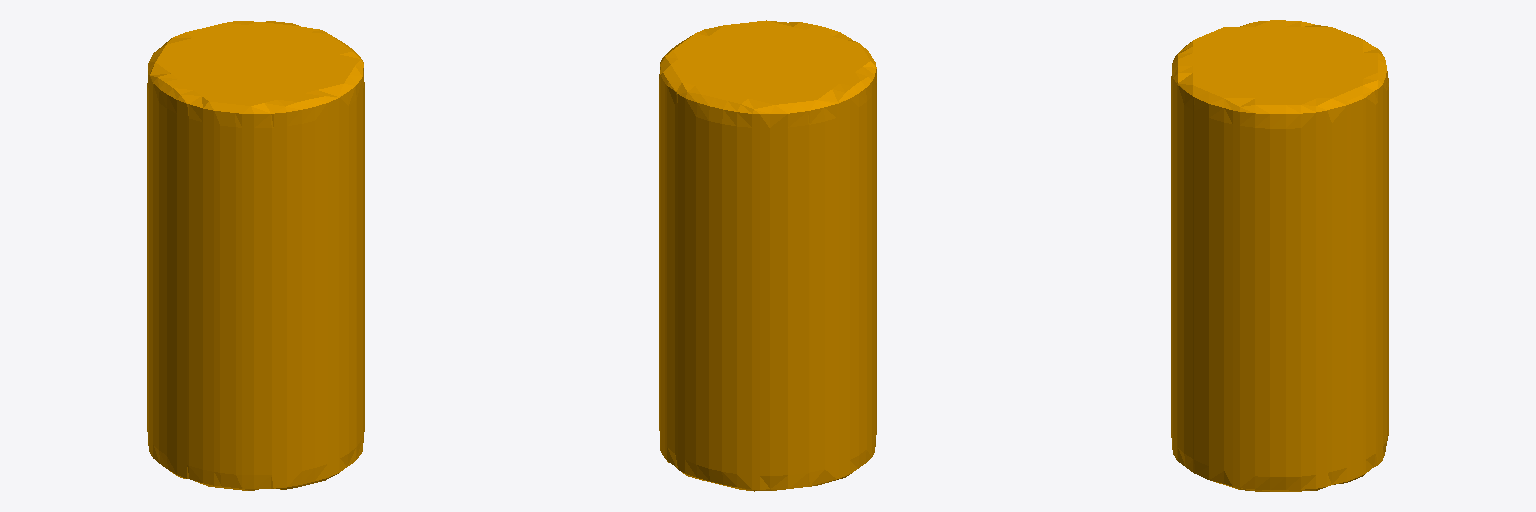
The robot description file, URDF, robot "cylinder_../../meshes/cylinders/cylinder_59.stl":
<?xml version="1.0" encoding="utf-8"?>  <robot name="cylinder_../../meshes/cylinders/cylinder_59.stl">   <link name="cylinder_../../meshes/cylinders/cylinder_59.stl">     <visual>       <geometry>         <mesh filename="../meshes/cylinders/cylinder_59.stl" scale="1 1 1"/>       </geometry>     </visual>     <collision>       <geometry>         <mesh filename="../meshes/cylinders/cylinder_59.stl" scale="1 1 1"/>       </geometry>     </collision>     <inertial>        <origin         xyz="0 0 0"         rpy="0 0 0" />       <mass value="0.5433927835040604"/>       <origin rpy="0 0 0" xyz="0 0 0"/>       <inertia ixx="0.0010357496555547206" ixy="-7.458808359332825e-08" ixz="-1.0404382662489103e-08" iyy="0.0010357505479511673" iyz="-1.4716960508042482e-09" izz="0.0003389874544446854"/>     </inertial>   </link>  </robot>

--- Facts derived from the render (not from the file) ---
3 views of the same robot in one strip: view 1: azimuth 30°, elevation 25°; view 2: azimuth 150°, elevation 25°; view 3: azimuth 270°, elevation 25° (orthographic).
Model cylinder_../../meshes/cylinders/cylinder_59.stl with 1 links and 0 joints (none), rooted at cylinder_../../meshes/cylinders/cylinder_59.stl, posed all joints at 0.
Links seen in each view (by area): view 1: cylinder_../../meshes/cylinders/cylinder_59.stl; view 2: cylinder_../../meshes/cylinders/cylinder_59.stl; view 3: cylinder_../../meshes/cylinders/cylinder_59.stl.
Link boxes in pixels (x1,y1,x2,y2): cylinder_../../meshes/cylinders/cylinder_59.stl: (147, 21, 364, 490); cylinder_../../meshes/cylinders/cylinder_59.stl: (659, 20, 876, 491); cylinder_../../meshes/cylinders/cylinder_59.stl: (1171, 20, 1388, 491).
Size in the robot's own frame: 0.0708 by 0.0708 by 0.1387 metres.
1 mesh visuals loaded from 1 distinct referenced files (1 binary STL).